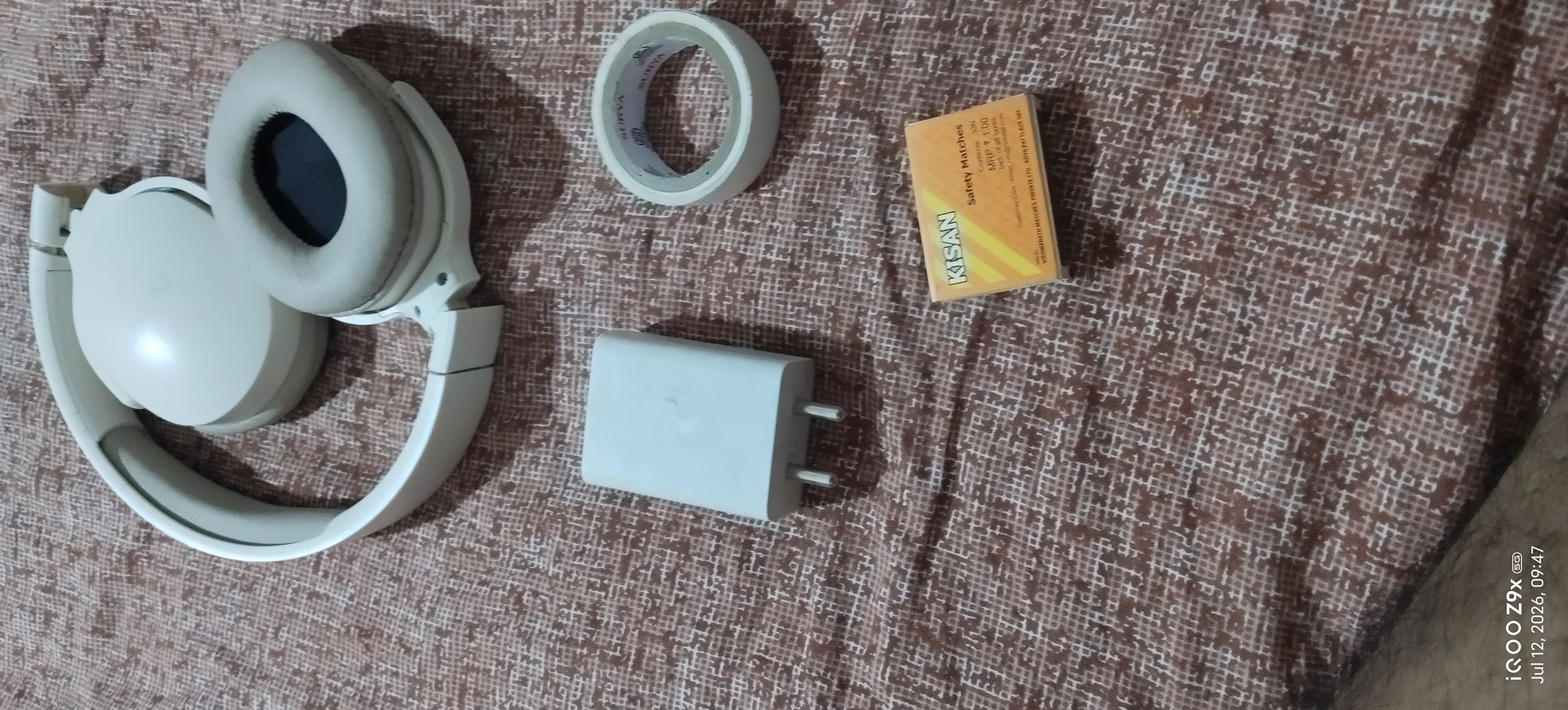charger: (558, 305, 865, 555)
matchbox: (883, 82, 1078, 319)
tape_roll: (558, 5, 811, 223)
